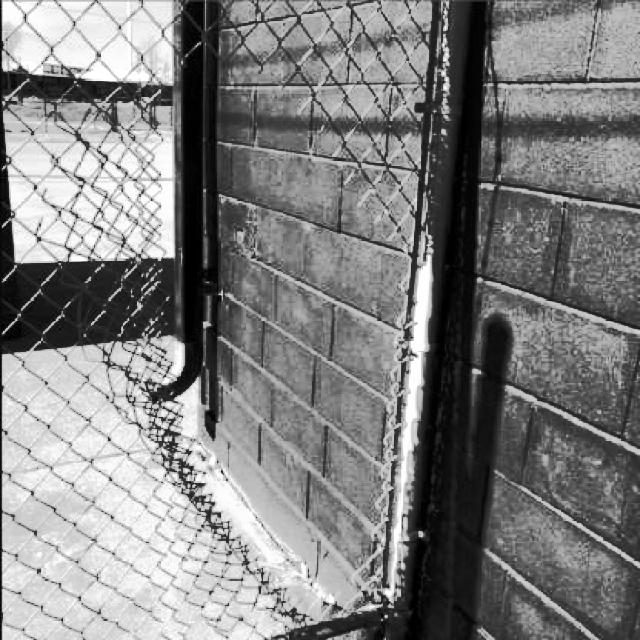anomaly-fence: (66, 20, 412, 621)
